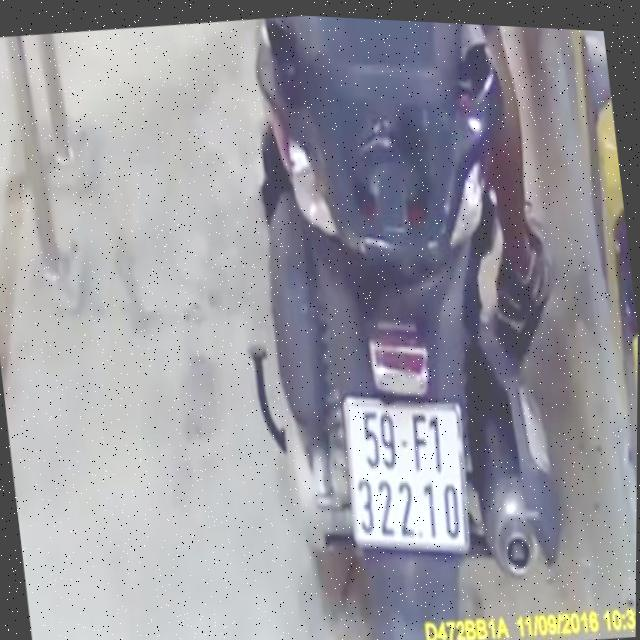motorcycle: (202, 11, 588, 640)
plate: (327, 382, 480, 569)
